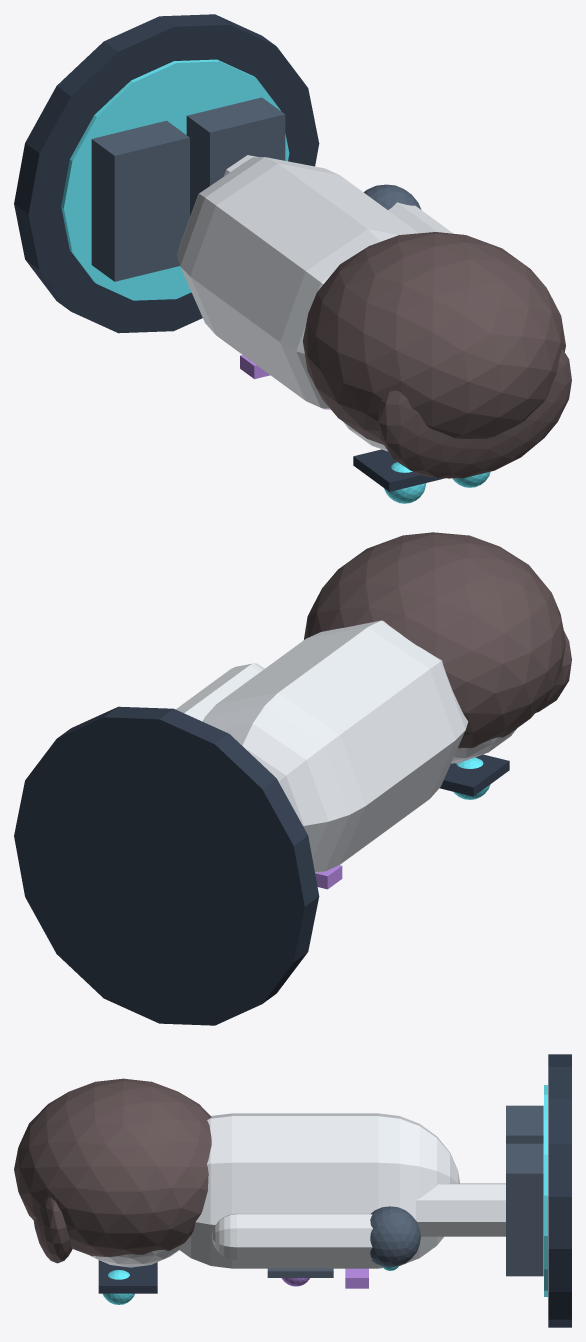
Rendered from cybershield_robot_woman.glb.
The picture shows the model from 3 angles, top to bottom: view 1: azimuth 30°, elevation 25°; view 2: azimuth 150°, elevation 25°; view 3: azimuth 270°, elevation 25°; orthographic projection. The views are drawn at different scales.
Parts seen in each view (by area): view 1: hair_back, torso, stable_base, left_foot, base_glow, hair_top, right_foot, face_panel, arm, hand, eye_left; view 2: stable_base, torso, hair_back, arm, face_panel, hair_top, head; view 3: hair_back, torso, arm, stable_base, right_foot, leg, hand, hair_top, face_panel, left_foot, head, base_glow (+3 smaller).
Part boxes in pixels (x1,y1,x2,y2): hair_back: [303, 232, 565, 444]; torso: [177, 157, 418, 409]; stable_base: [14, 14, 319, 333]; left_foot: [91, 120, 189, 281]; base_glow: [61, 59, 289, 300]; hair_top: [378, 349, 571, 478]; right_foot: [186, 97, 285, 216]; face_panel: [353, 449, 444, 491]; arm: [388, 202, 452, 233]; hand: [364, 184, 421, 209]; eye_left: [384, 462, 426, 503]; stable_base: [14, 706, 319, 1025]; torso: [203, 620, 468, 873]; hair_back: [304, 532, 565, 748]; arm: [176, 663, 264, 721]; face_panel: [440, 754, 509, 796]; hair_top: [535, 631, 571, 712]; head: [451, 728, 516, 763]; hair_back: [14, 1078, 211, 1257]; torso: [179, 1113, 459, 1268]; arm: [212, 1213, 372, 1259]; stable_base: [548, 1054, 571, 1327]; right_foot: [506, 1143, 543, 1276]; leg: [416, 1183, 505, 1236]; hand: [370, 1206, 420, 1267]; hair_top: [34, 1197, 72, 1263]; face_panel: [98, 1260, 157, 1293]; left_foot: [506, 1105, 543, 1143]; head: [89, 1244, 181, 1267]; base_glow: [544, 1085, 547, 1296].
Bounding box in the file's own units: 1.17 × 1.16 × 2.36.
